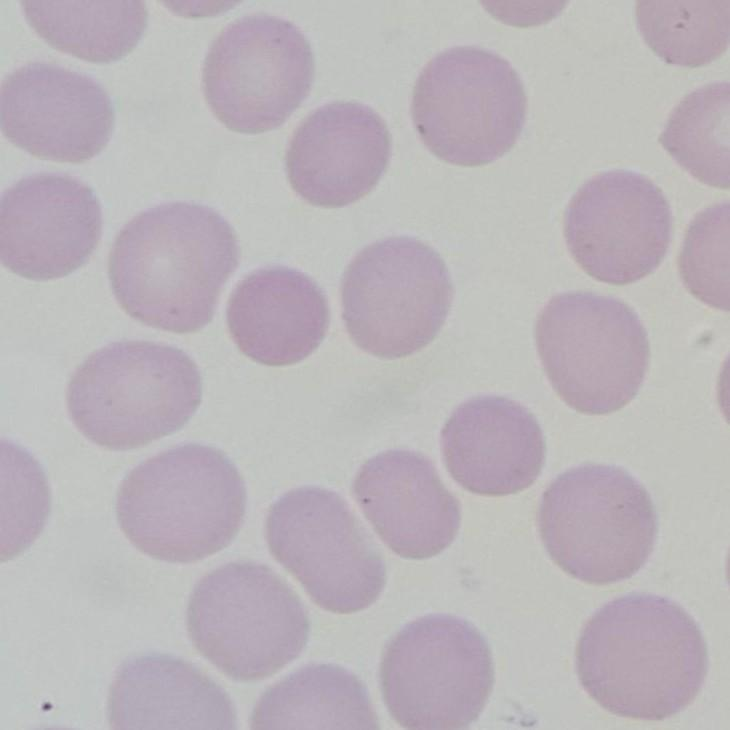Uninfected: (112, 202, 238, 331), (578, 596, 708, 718), (265, 486, 386, 614), (120, 444, 247, 564), (188, 562, 309, 683), (68, 339, 203, 447), (413, 42, 531, 165), (542, 461, 658, 583), (340, 236, 452, 358), (535, 294, 646, 414), (380, 616, 493, 730), (202, 19, 315, 132), (563, 172, 673, 282), (352, 449, 462, 559), (285, 99, 392, 209), (0, 67, 114, 162), (2, 176, 103, 282), (442, 396, 543, 498), (228, 264, 327, 364)
